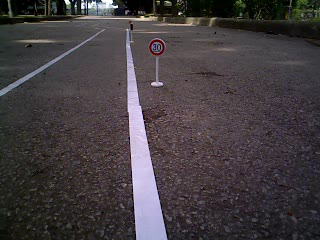limit 30: (148, 38, 167, 57)
